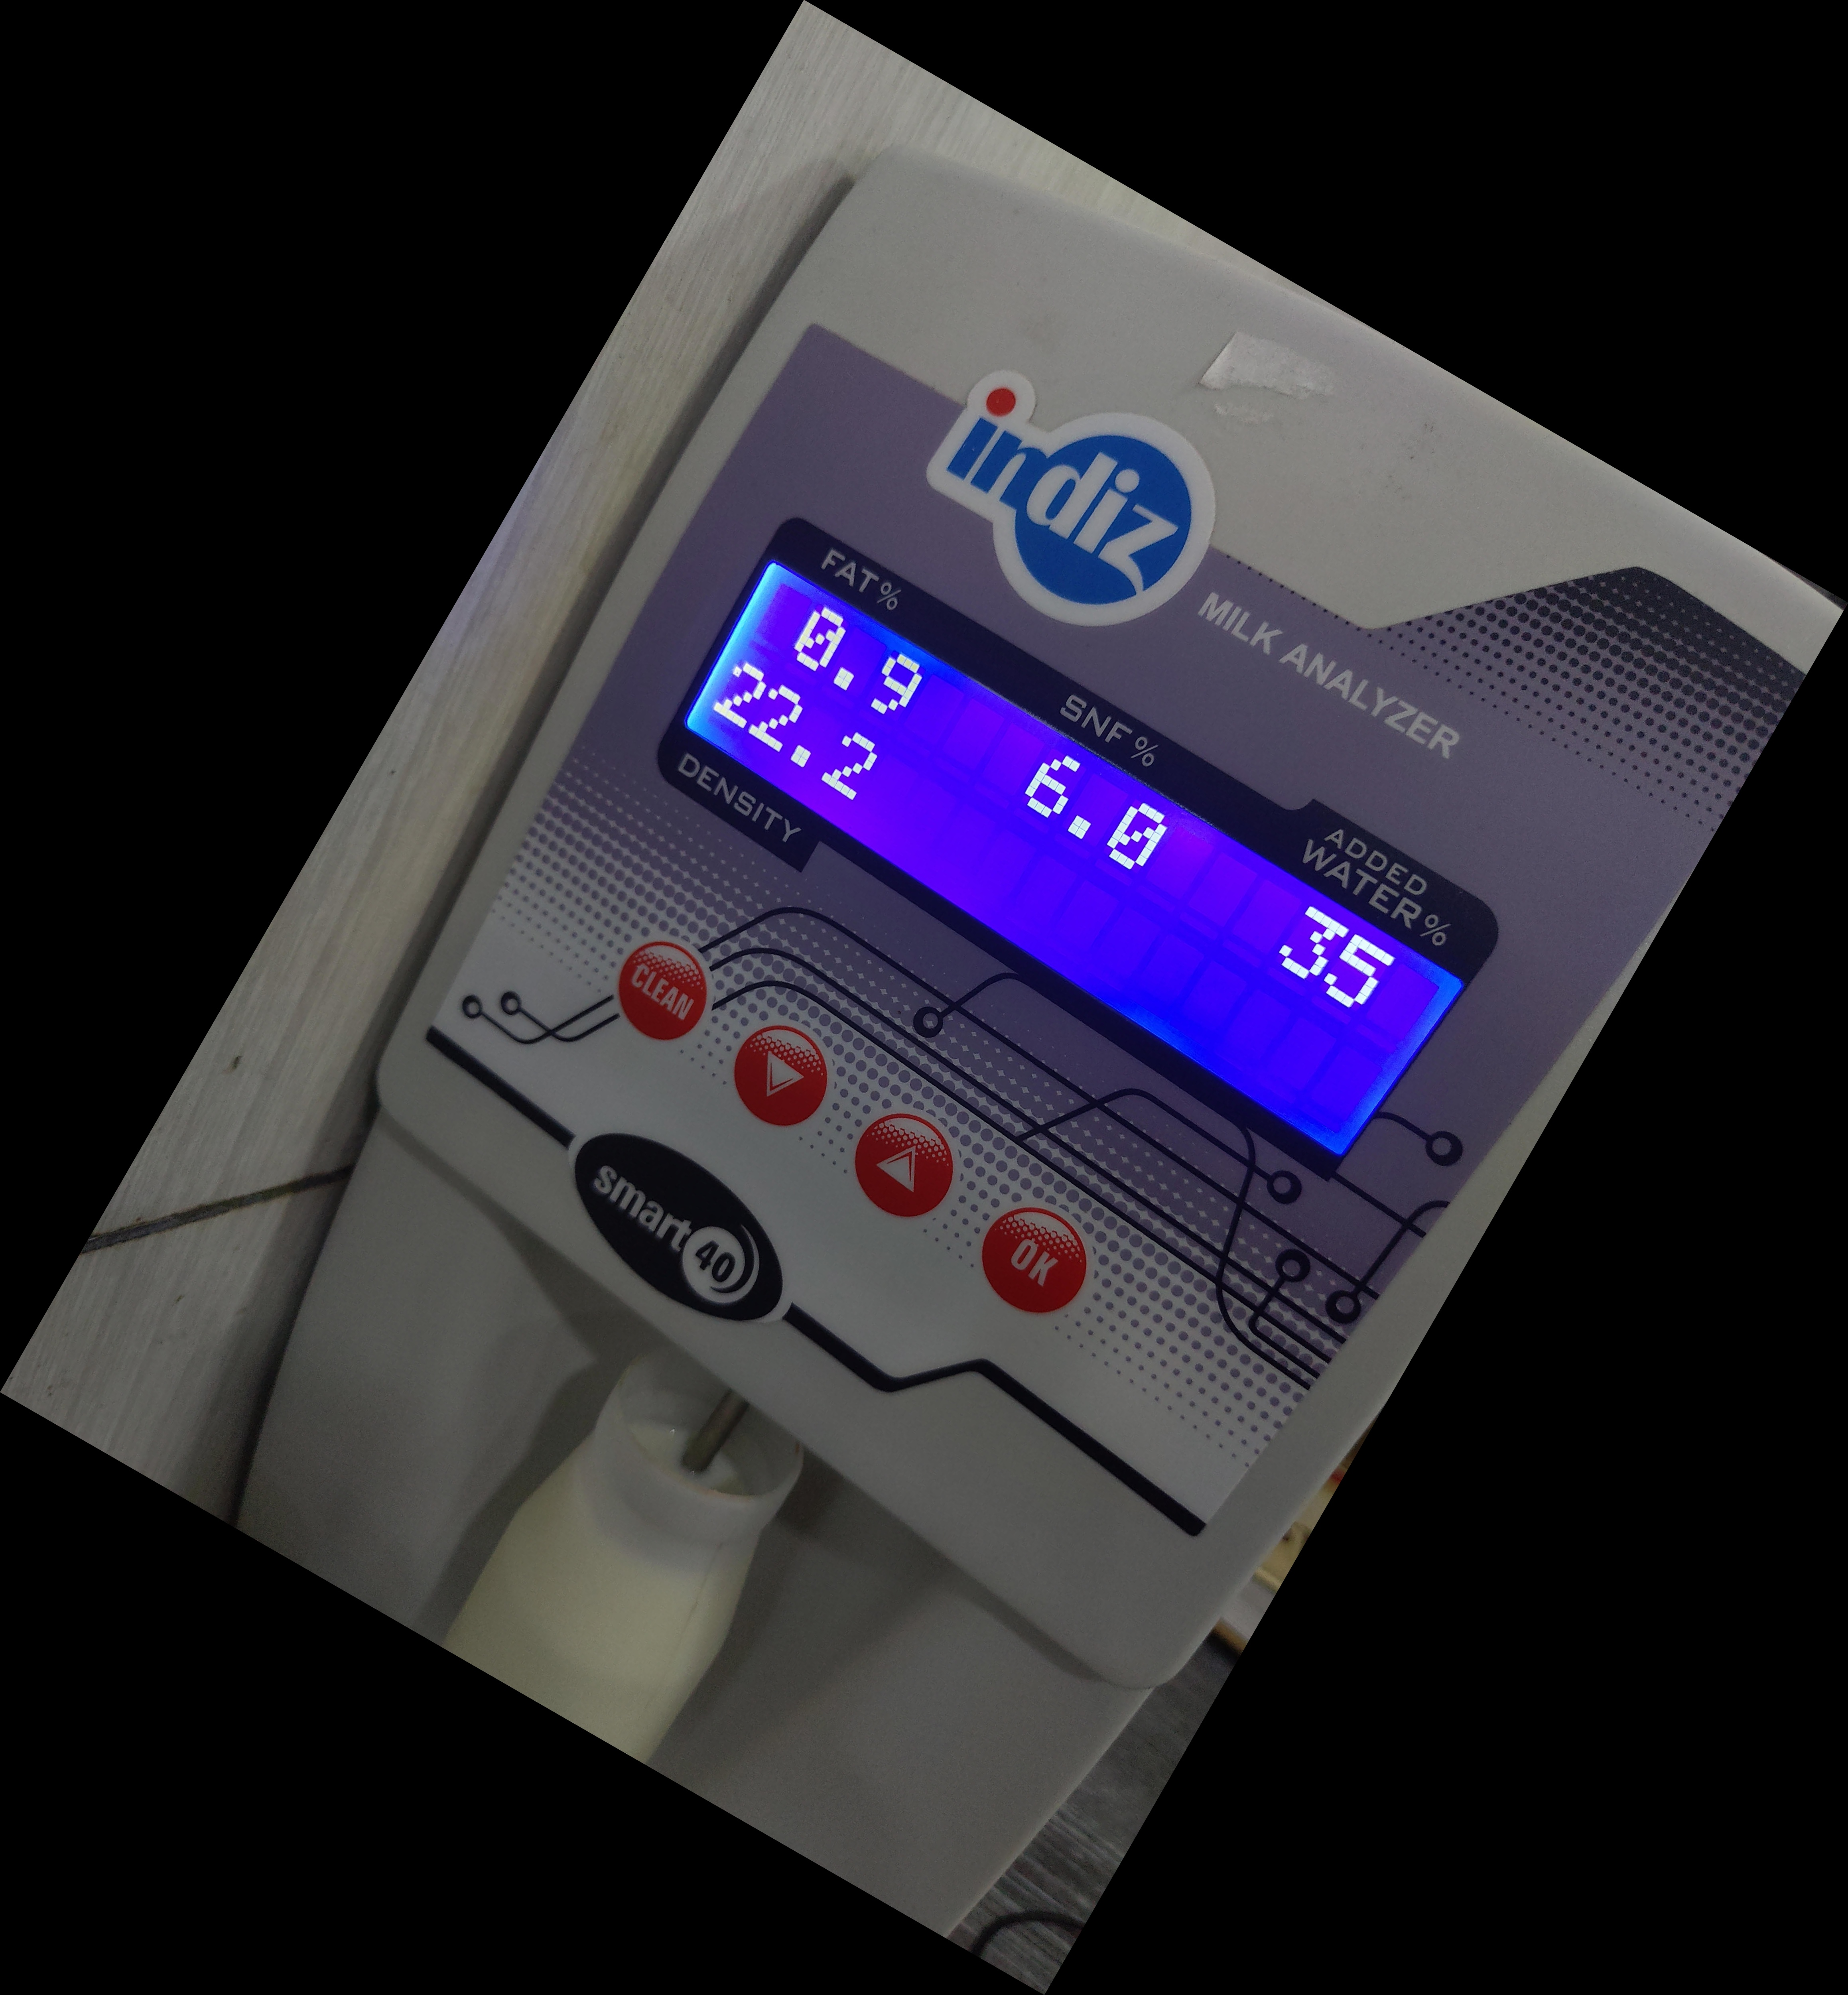lcd: (661, 540, 1478, 1182)
